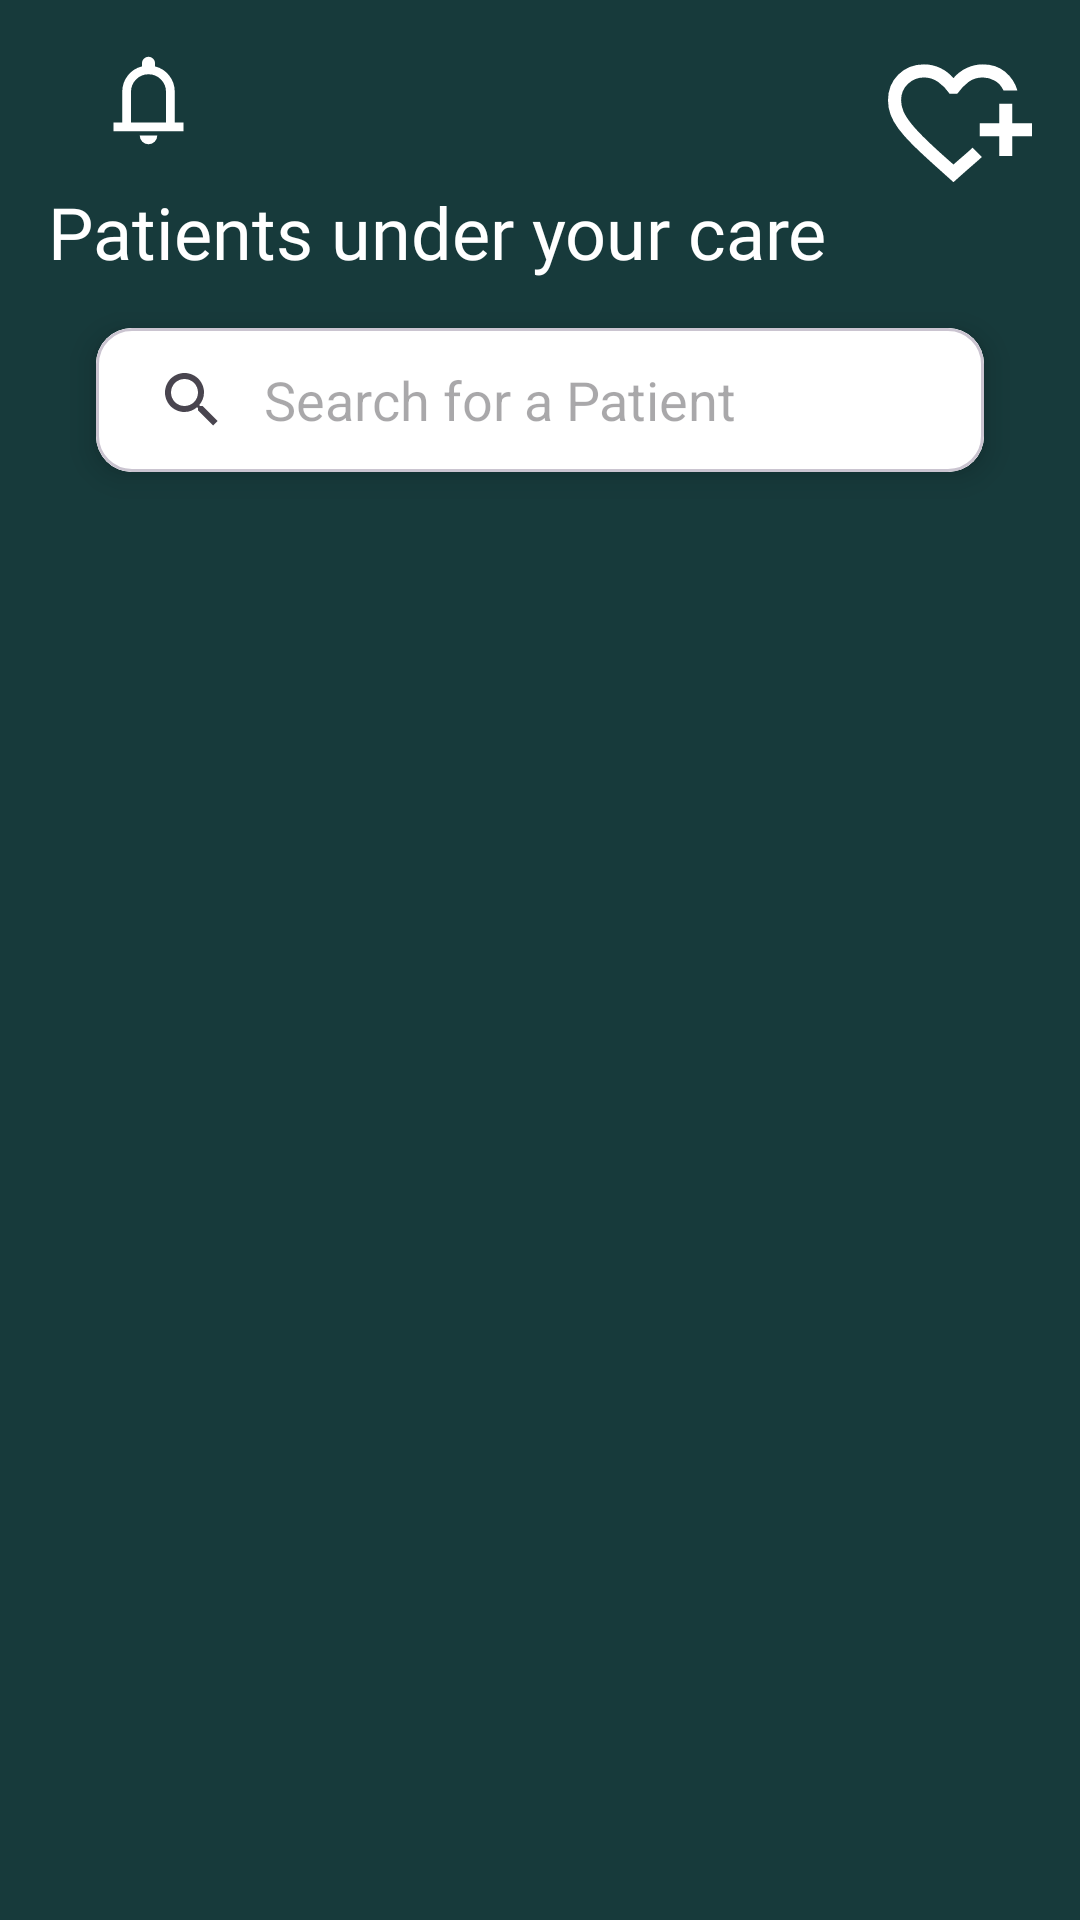

Icon click points for this 1080px x 1920px phone screenshot, format [x,y]:
Notification button: [148,100]
